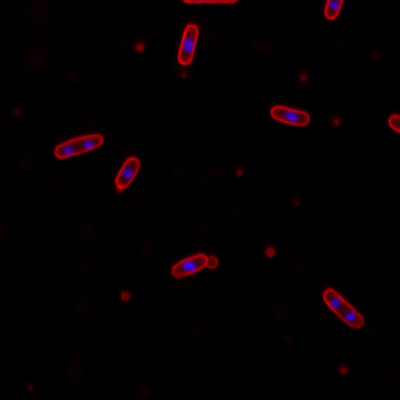CAM: (320, 284, 366, 331), (54, 130, 104, 161), (175, 21, 202, 67), (167, 252, 208, 280), (113, 155, 143, 192), (267, 103, 311, 127)
Vesicle: (262, 243, 277, 259), (118, 288, 132, 303), (335, 361, 349, 376), (289, 194, 303, 207), (10, 105, 23, 118), (328, 115, 342, 127), (233, 164, 245, 178), (133, 40, 146, 52), (177, 67, 189, 79), (297, 71, 309, 83), (23, 382, 36, 393)
